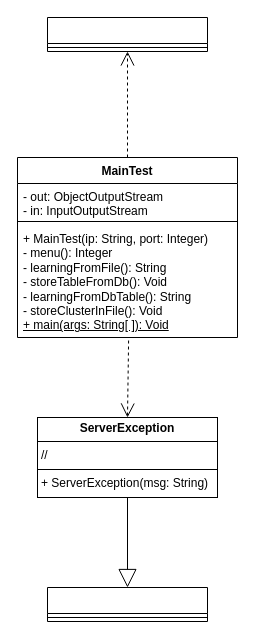
Image size: 255x639. Some labels were removed from this diagram. The box of each missing label's shape, as (x1, y1, x2, y2) in pixels:
Exception: (46, 586, 208, 622)
Socket: (46, 16, 208, 52)
